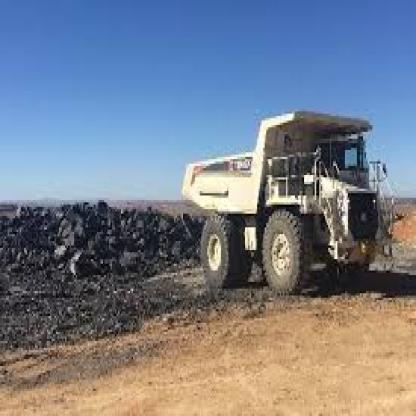dump_truck: (171, 98, 396, 304)
